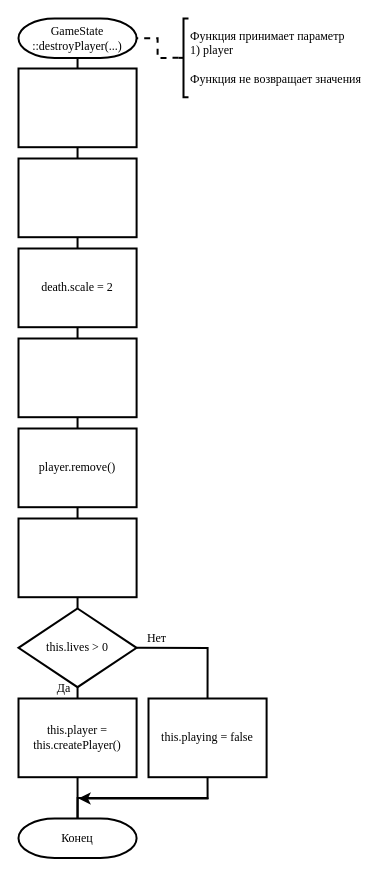
Image size: 378x876. Some labels were removed from this diagram. The shapes that lost their labels are listed below. From the top down, each one's centre as x and y in pixels, then its label:
At point (77, 107): "death = createSprite( player.position.x, player.position.y, 20, 20)".
At point (77, 197): "death.addImage( deathImg )".
At point (77, 377): "death.life= 50".
At point (77, 557): "this.lives -= 1".
